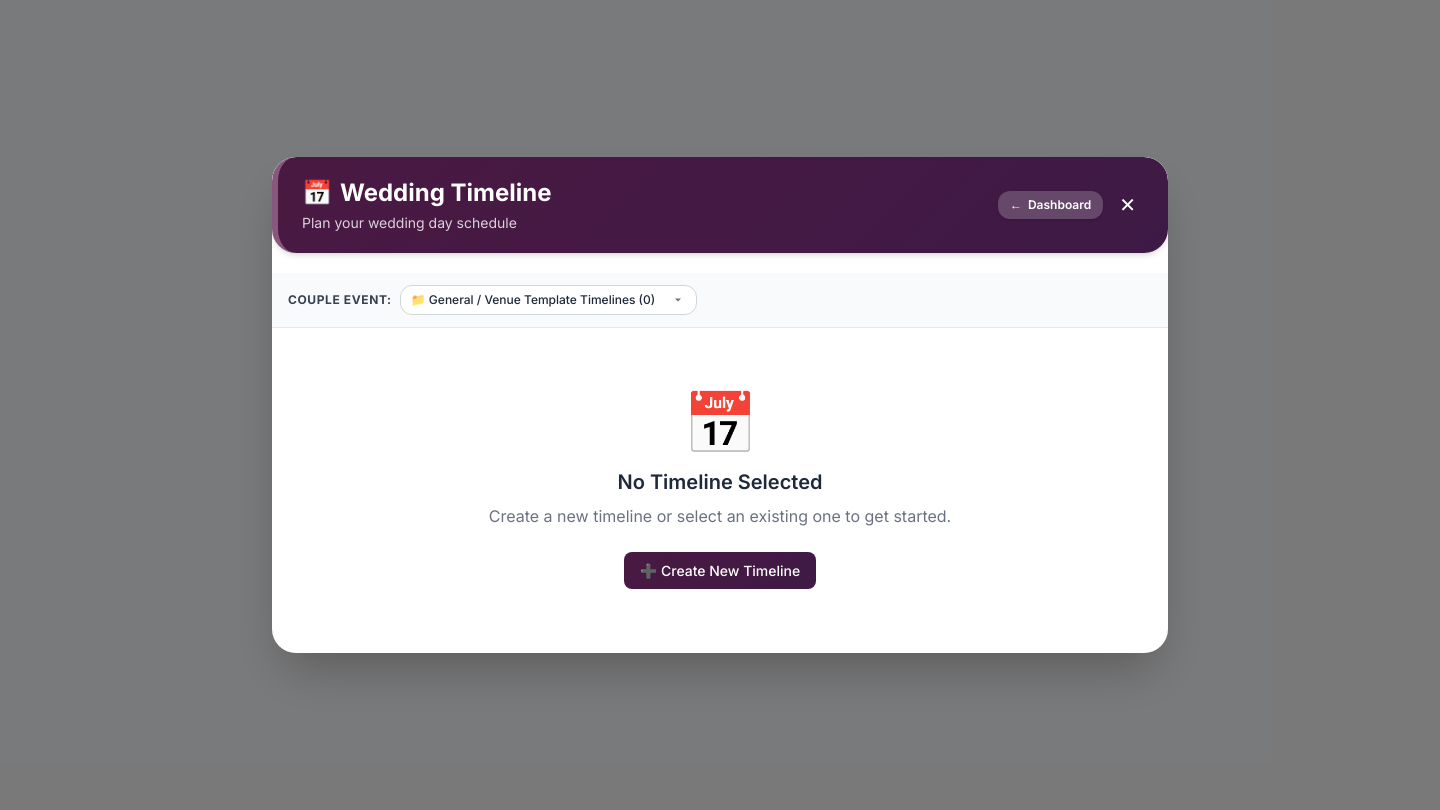
TimelinePanel (Venue Portal <-> Couples Portal Integration) › allows venue admin to click "Add Day of Coordination ($1,000)" to add service and unlock collaborative editing
Select "🔒 Smith & Jones (2026-09-19)" in the dropdown labelled "Couple Event:" at [548, 300], box x1=400 y1=285 x2=697 y2=315
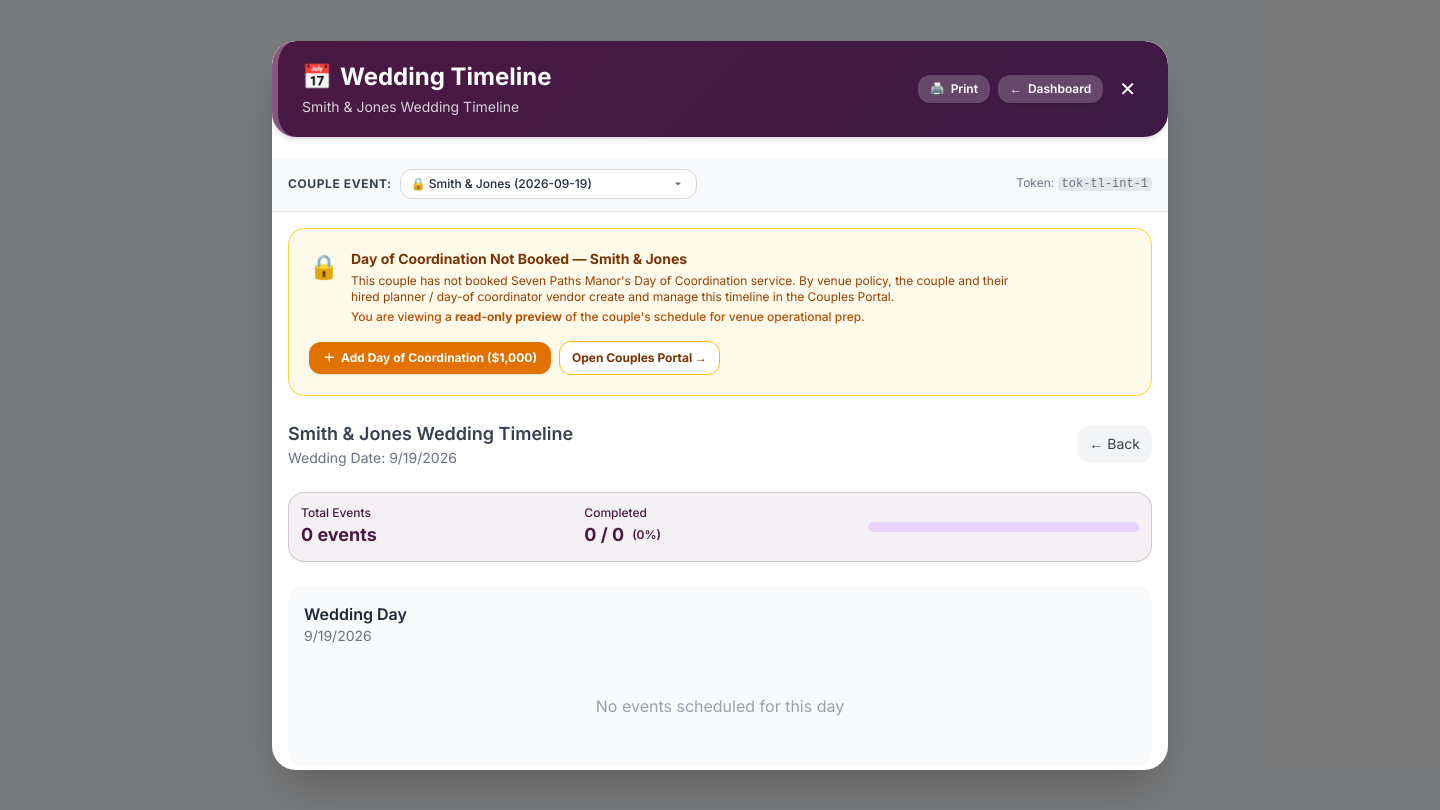
Click the button "＋ Add Day of Coordination ($1,000)" at [430, 358], box x1=309 y1=342 x2=551 y2=374
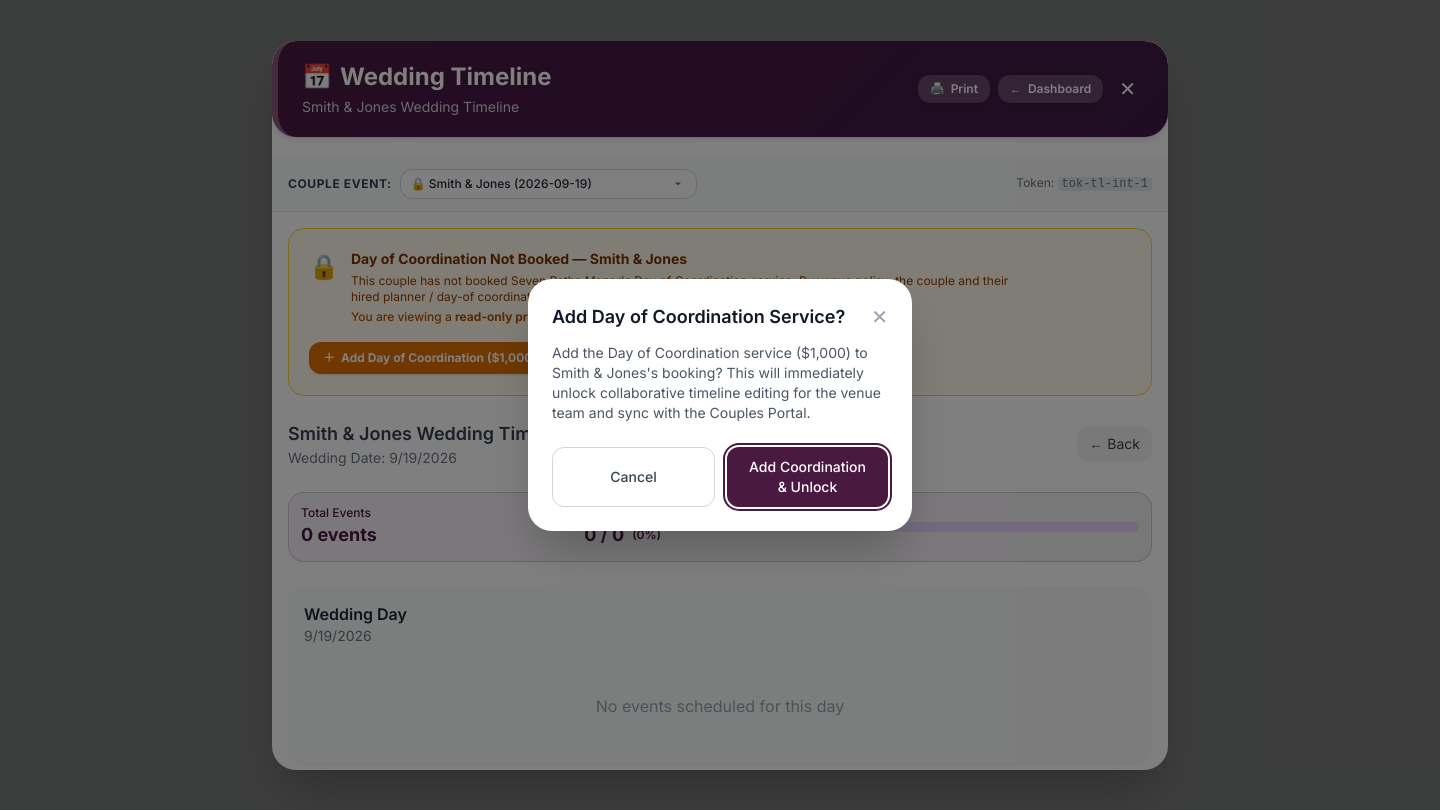
Now the heading "Add Day of Coordination Service?" is shown, box x1=552 y1=303 x2=845 y2=331
Click the button "Add Coordination & Unlock" at [808, 477], box x1=727 y1=447 x2=888 y2=507
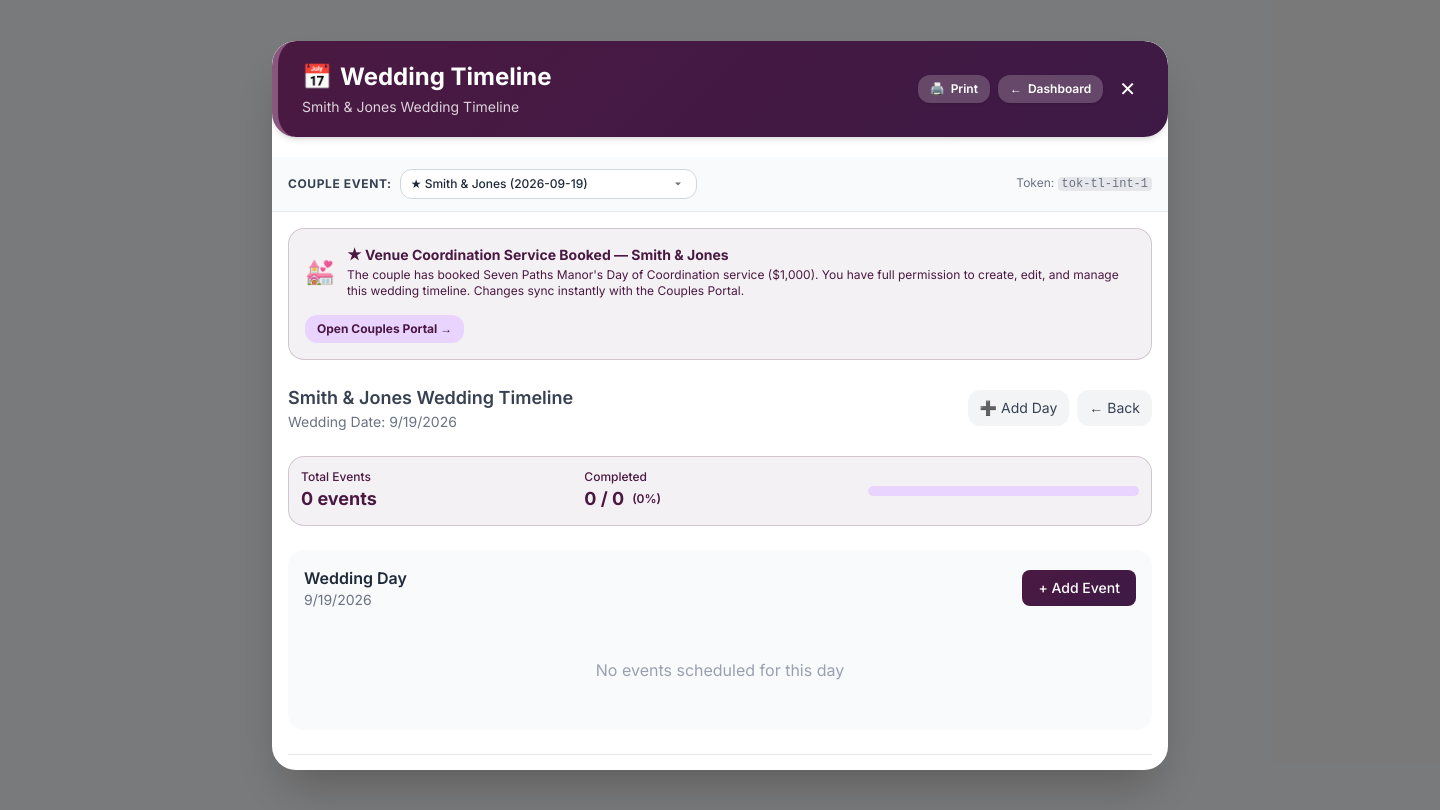
Now the text "★ Venue Coordination Service Booked — Smith & Jones" is shown, box x1=347 y1=246 x2=729 y2=262
